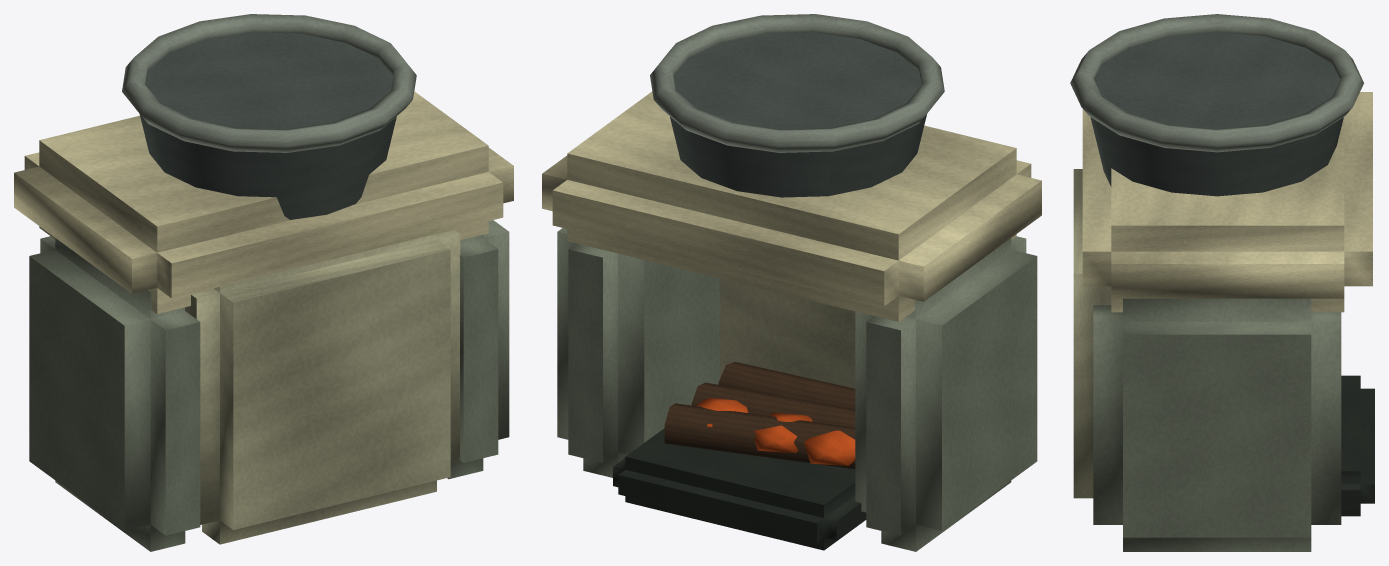
File: hearth-1.fbx
The picture shows the model from 3 angles, left to right: view 1: azimuth 30°, elevation 25°; view 2: azimuth 150°, elevation 25°; view 3: azimuth 270°, elevation 25°; orthographic projection.
Parts seen in each view (by area): view 1: hearth-1__Geometry; view 2: hearth-1__Geometry; view 3: hearth-1__Geometry.
Boxes of the visible parts, x1,y1,x2,y2 form: hearth-1__Geometry: (14,14,513,551); hearth-1__Geometry: (542,14,1041,551); hearth-1__Geometry: (1070,14,1374,551).
Size of the model in its own units: 1.24 by 1.24 by 0.86.
